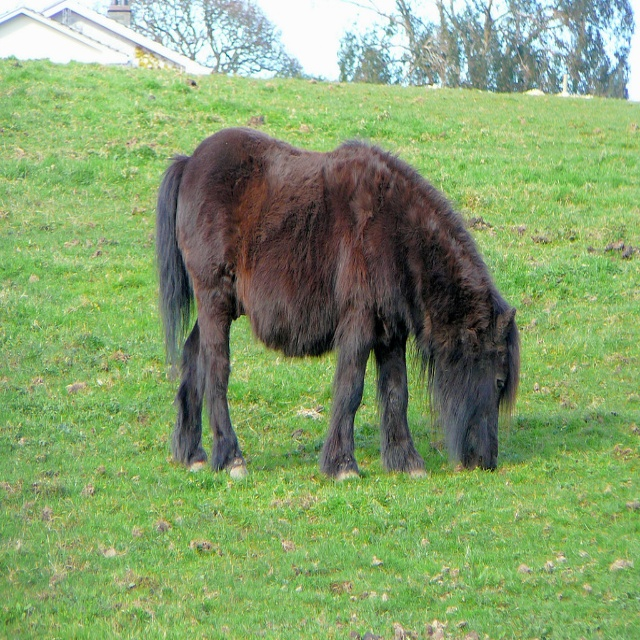Horse: (153, 126, 522, 484)
